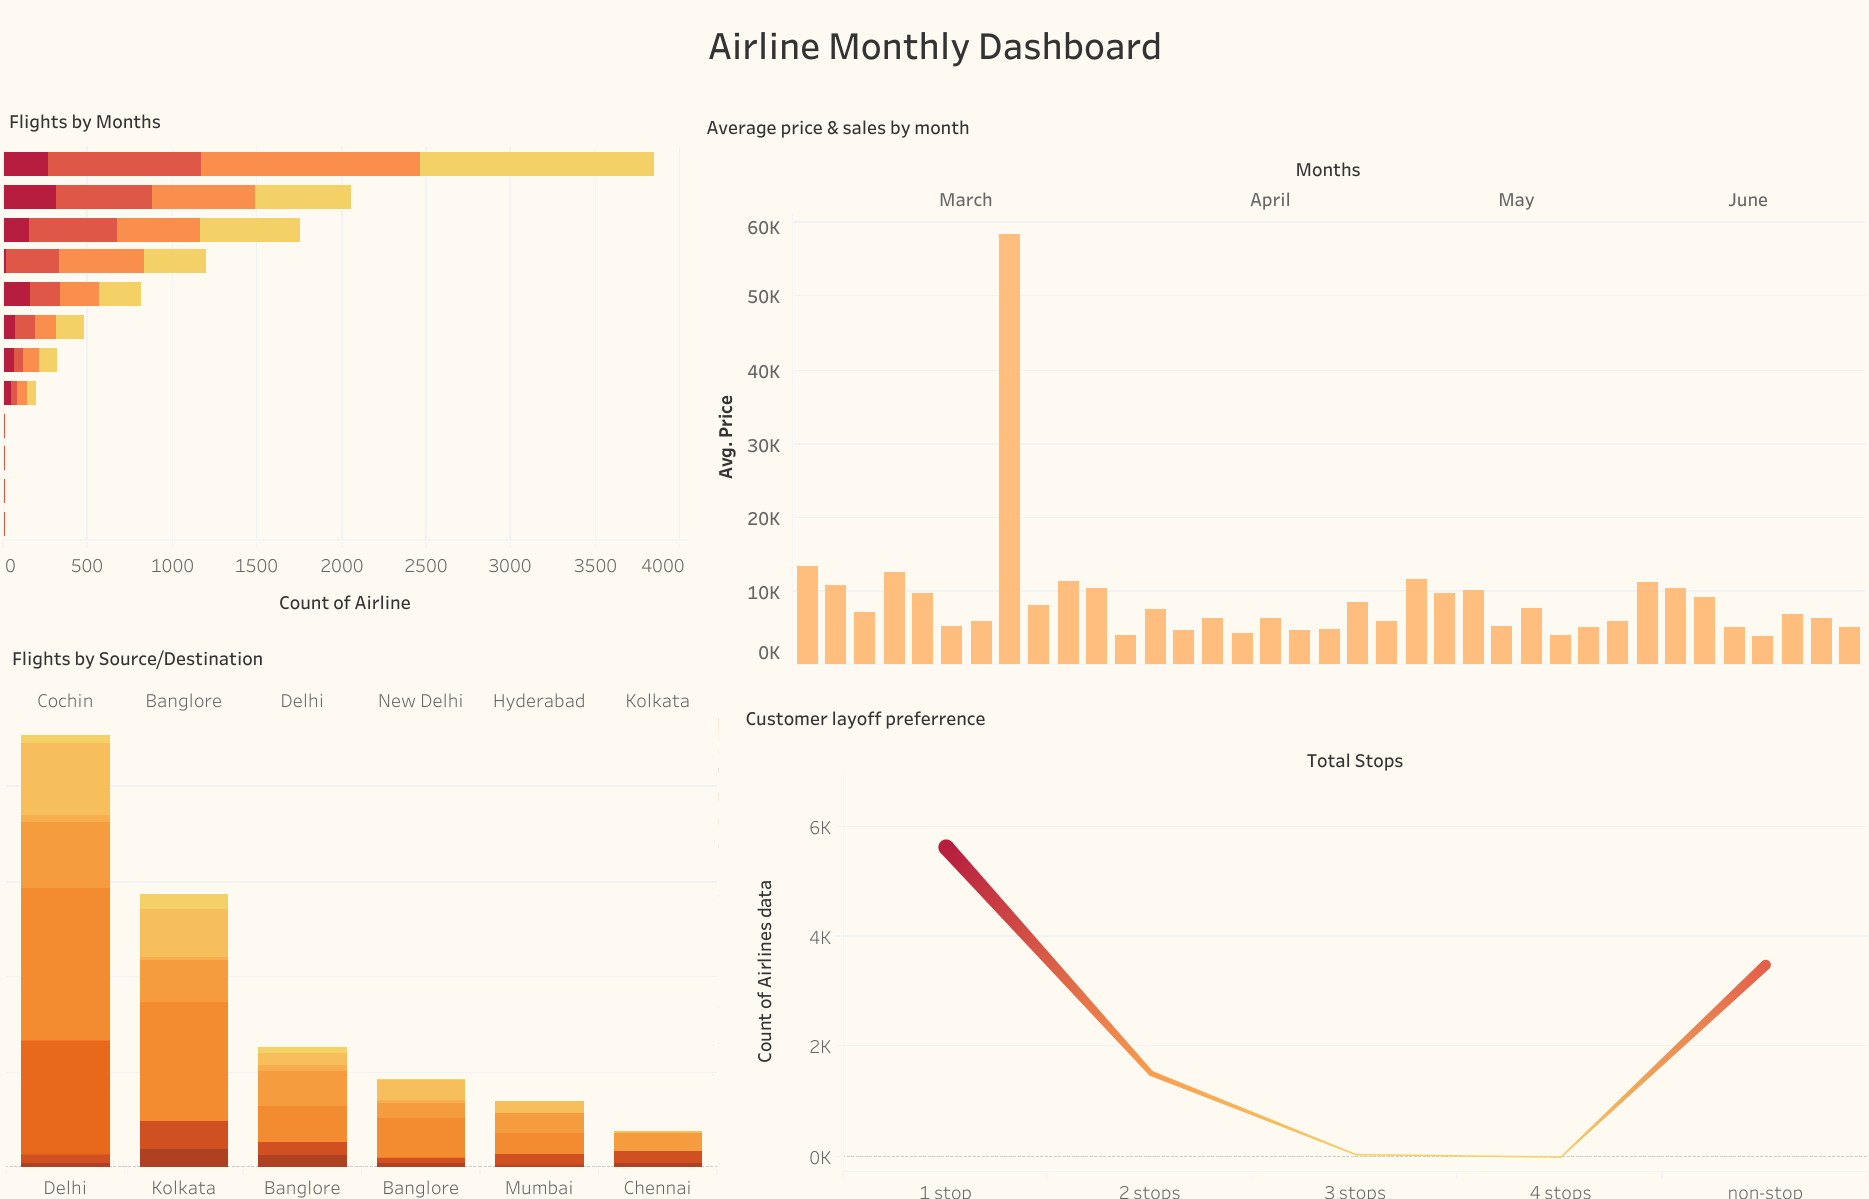

What the dashboard file says about the page in this screenshot:
{"tool":"tableau","page":{"name":"Dashboard 1","canvas":[1000,1000],"units":"permille","ordinal":0},"visuals":[{"type":"title","box":[5,10,990,72.5]},{"type":"worksheet","title":"Flight","mark":"Bar","rows":["Airline"],"cols":["Airline"],"box":[1.3,81.2,366.1,440]},{"type":"worksheet","title":"Price and Sales","mark":"Automatic","rows":["Price"],"cols":["Months","Airline"],"box":[374.4,86.2,622.5,467.5]},{"type":"worksheet","title":"Source/Destination","mark":"Bar","rows":["Airlines data_53580E3075E8410EB9B3917011179EF7"],"cols":["Destination","Source"],"box":[3.2,528.8,380,471.2]},{"type":"worksheet","title":"Layoff","mark":"Line","rows":["Airlines data_53580E3075E8410EB9B3917011179EF7"],"cols":["Total_Stops"],"box":[395.6,578.8,603.1,425]}]}

Visuals, with their boxes on the dashboard's canvas, which has no fixed pixel size, in thousandths of its width and height (x1, y1, x2, y2). These are canvas units, not pixel positions in the 1869x1199 screenshot, which may show the page scaled, cropped or inside an application window:
title: (left=5, top=10, right=995, bottom=82)
"Flight" worksheet (Bar marks): (left=1, top=81, right=367, bottom=521)
"Price and Sales" worksheet: (left=374, top=86, right=997, bottom=554)
"Source/Destination" worksheet (Bar marks): (left=3, top=529, right=383, bottom=1000)
"Layoff" worksheet (Line marks): (left=396, top=579, right=999, bottom=1004)
